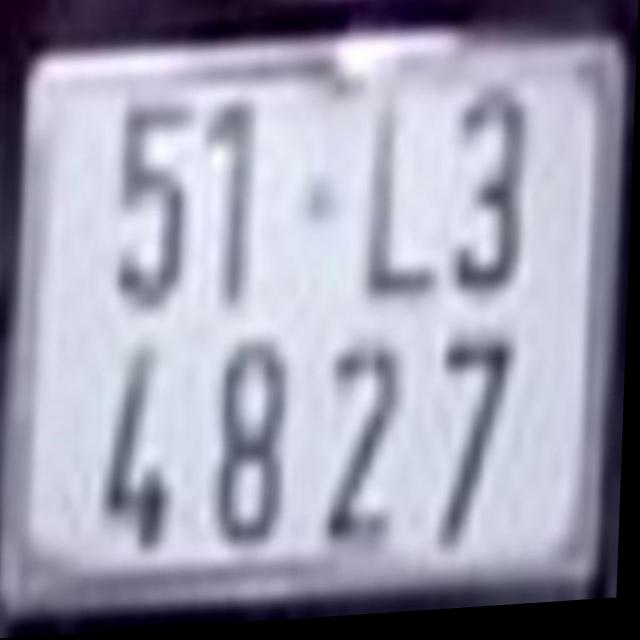1: (200, 92, 252, 295)
2: (332, 345, 403, 542)
3: (455, 83, 526, 300)
4: (106, 346, 186, 549)
5: (120, 98, 194, 303)
7: (442, 340, 516, 560)
8: (221, 339, 289, 548)
L: (365, 91, 442, 291)
